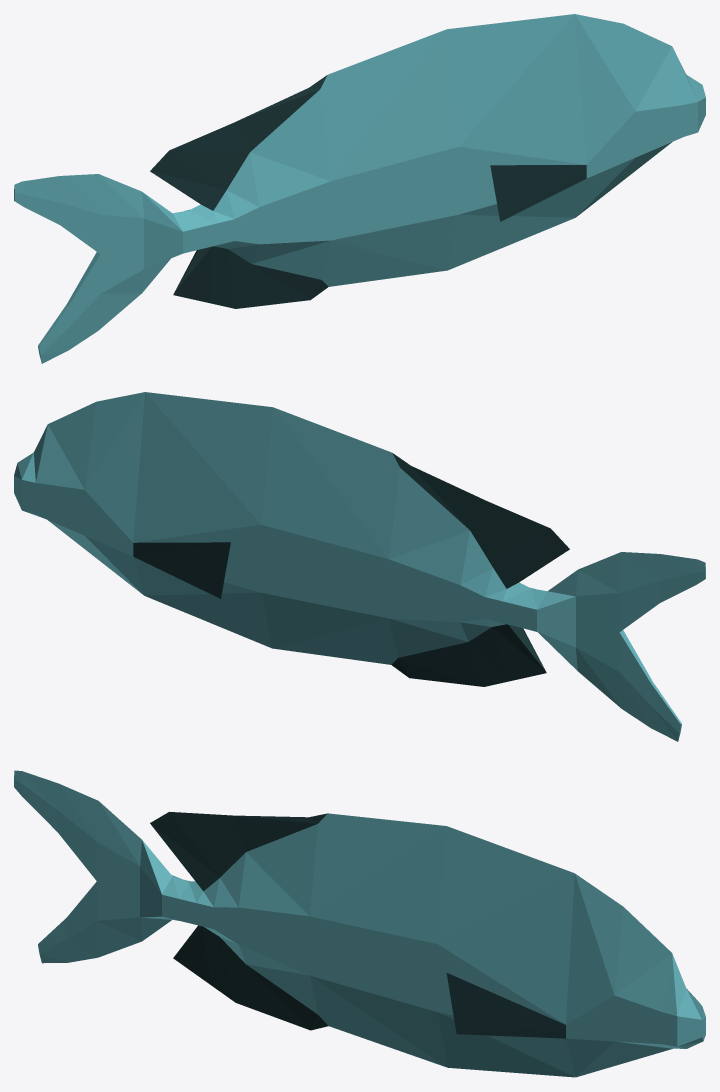
File: fish.fbx
3 renders of one model, top to bottom at view 1: azimuth 30°, elevation 25°; view 2: azimuth 150°, elevation 25°; view 3: azimuth 330°, elevation 25°, orthographic.
Visible parts, largest first — view 1: Cylinder001; view 2: Cylinder001; view 3: Cylinder001.
Boxes of the visible parts, <box> form: Cylinder001: <box>14,14,705,363</box>; Cylinder001: <box>14,392,705,741</box>; Cylinder001: <box>14,770,705,1077</box>.
Bounding box in the file's own units: 230 × 77.08 × 24.6.
